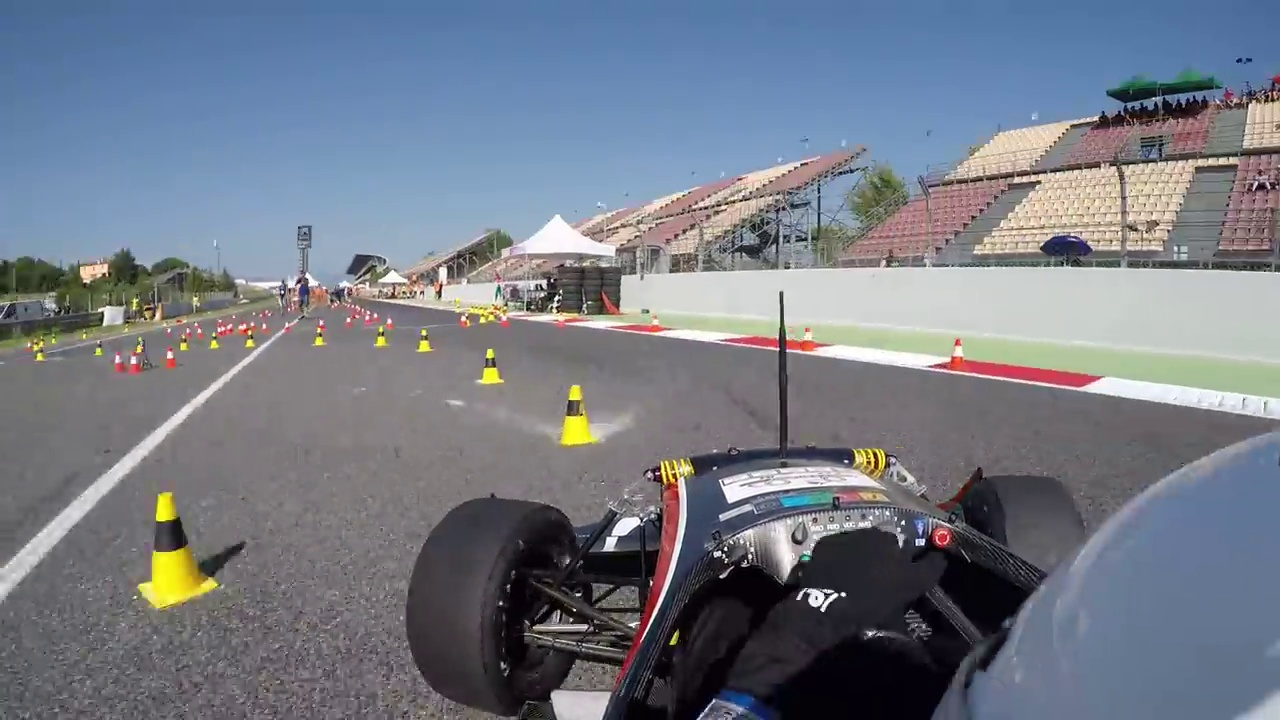Cone: (138, 488, 212, 614), (556, 384, 598, 447), (477, 347, 504, 385), (415, 329, 436, 354)
